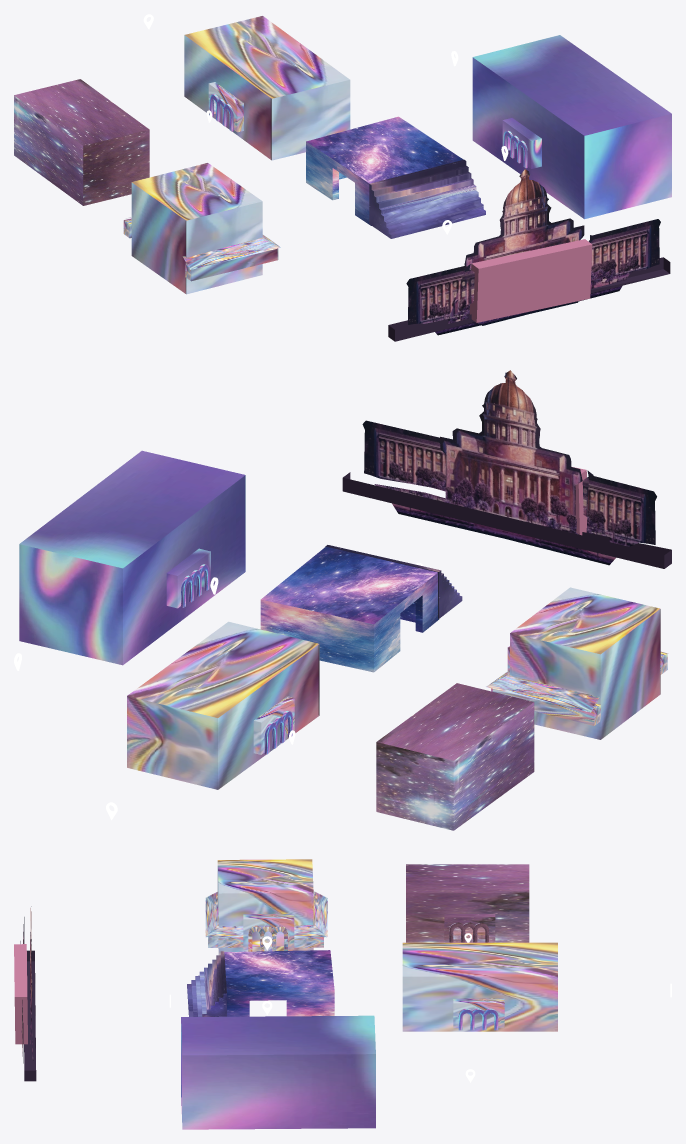
Rendered from map.glb.
3 views of the same model, one above another, from view 1: azimuth 30°, elevation 25°; view 2: azimuth 150°, elevation 25°; view 3: azimuth 270°, elevation 25° (orthographic). The views are drawn at different scales.
Parts seen in each view (by area): view 1: AB2, LHCnew, AB1, AB3, Mess, dome, Cube, Stairs, dome.002, dome.001, AB1extend.002, AB1extend.003 (+2 smaller); view 2: AB2, LHCnew, dome, AB1, AB3, Mess, dome.001, dome.002, AB1extend.002, Stairs, AB1extend.003, Arc.002; view 3: AB2, LHCnew, AB1, AB3, Mess, Stairs, dome, Cube, AB1extend.004, AB1extend.001, Arc.004, Arc.001.
Part boxes in pixels (bbox=[...]): AB2: bbox=[472, 35, 671, 219]; LHCnew: bbox=[184, 16, 350, 160]; AB1: bbox=[123, 163, 280, 294]; AB3: bbox=[14, 79, 149, 205]; Mess: bbox=[306, 116, 463, 225]; dome: bbox=[388, 169, 670, 341]; Cube: bbox=[469, 239, 592, 322]; Stairs: bbox=[369, 159, 485, 238]; dome.002: bbox=[406, 264, 474, 324]; dome.001: bbox=[588, 219, 660, 280]; AB1extend.002: bbox=[502, 118, 541, 168]; AB1extend.003: bbox=[208, 82, 243, 132]; AB2: bbox=[19, 450, 245, 665]; LHCnew: bbox=[127, 621, 319, 789]; dome: bbox=[342, 370, 671, 568]; AB1: bbox=[485, 587, 668, 739]; AB3: bbox=[376, 683, 534, 830]; Mess: bbox=[260, 547, 439, 672]; dome.001: bbox=[362, 420, 445, 491]; dome.002: bbox=[582, 470, 656, 546]; AB1extend.002: bbox=[166, 548, 210, 608]; Stairs: bbox=[325, 545, 462, 618]; AB1extend.003: bbox=[253, 696, 294, 754]; Arc.002: bbox=[181, 564, 209, 607]; AB2: bbox=[181, 1015, 375, 1129]; LHCnew: bbox=[402, 942, 557, 1031]; AB1: bbox=[205, 859, 327, 955]; AB3: bbox=[406, 864, 529, 942]; Mess: bbox=[224, 950, 334, 1016]; Stairs: bbox=[187, 951, 226, 1016]; dome: bbox=[24, 906, 36, 1081]; Cube: bbox=[14, 944, 27, 1044]; AB1extend.004: bbox=[453, 998, 504, 1028]; AB1extend.001: bbox=[444, 914, 495, 942]; Arc.004: bbox=[458, 1008, 498, 1030]; Arc.001: bbox=[449, 922, 488, 942].
Bounding box in the file's own units: 422 × 126 × 576.
Materials: 26 (16 with a texture image).
